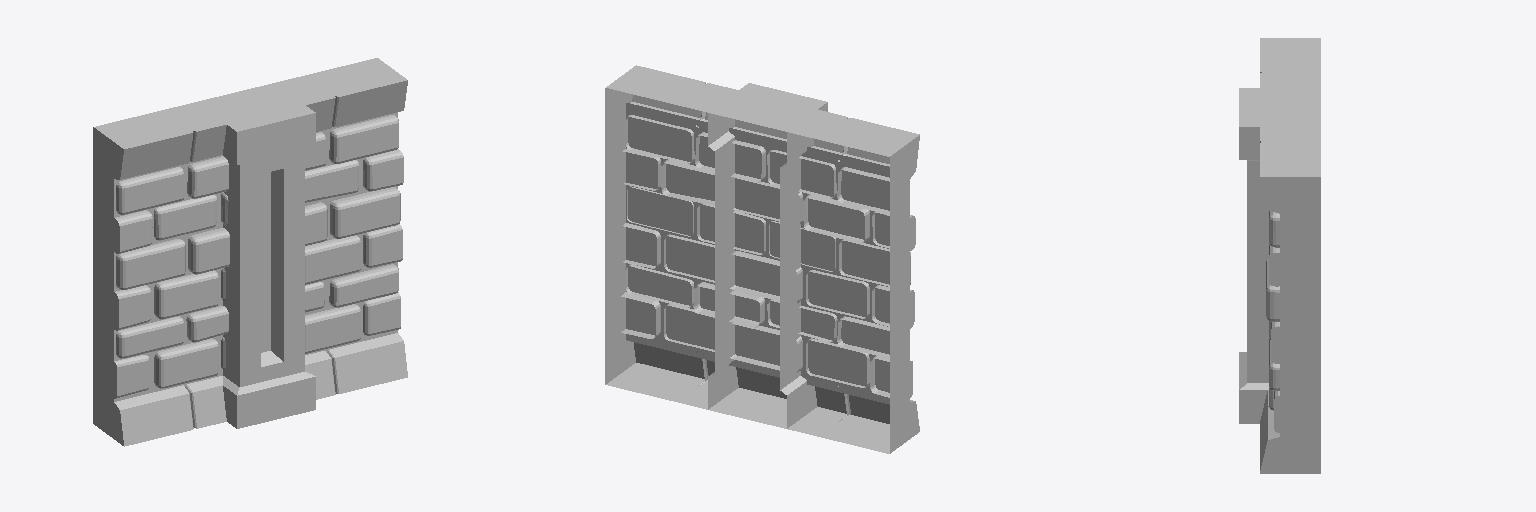
File: wallSingle_decorationB.obj
3 renders of one model, left to right at view 1: azimuth 30°, elevation 25°; view 2: azimuth 150°, elevation 25°; view 3: azimuth 270°, elevation 25°, orthographic.
Visible parts, largest first — view 1: wallSingle_decorationB_Cube.2628; view 2: wallSingle_decorationB_Cube.2628; view 3: wallSingle_decorationB_Cube.2628.
Boxes of the visible parts, <box> form: wallSingle_decorationB_Cube.2628: <box>93,58,407,446</box>; wallSingle_decorationB_Cube.2628: <box>605,65,919,453</box>; wallSingle_decorationB_Cube.2628: <box>1239,38,1320,473</box>.
Bounding box in the file's own units: 4 × 4 × 1.